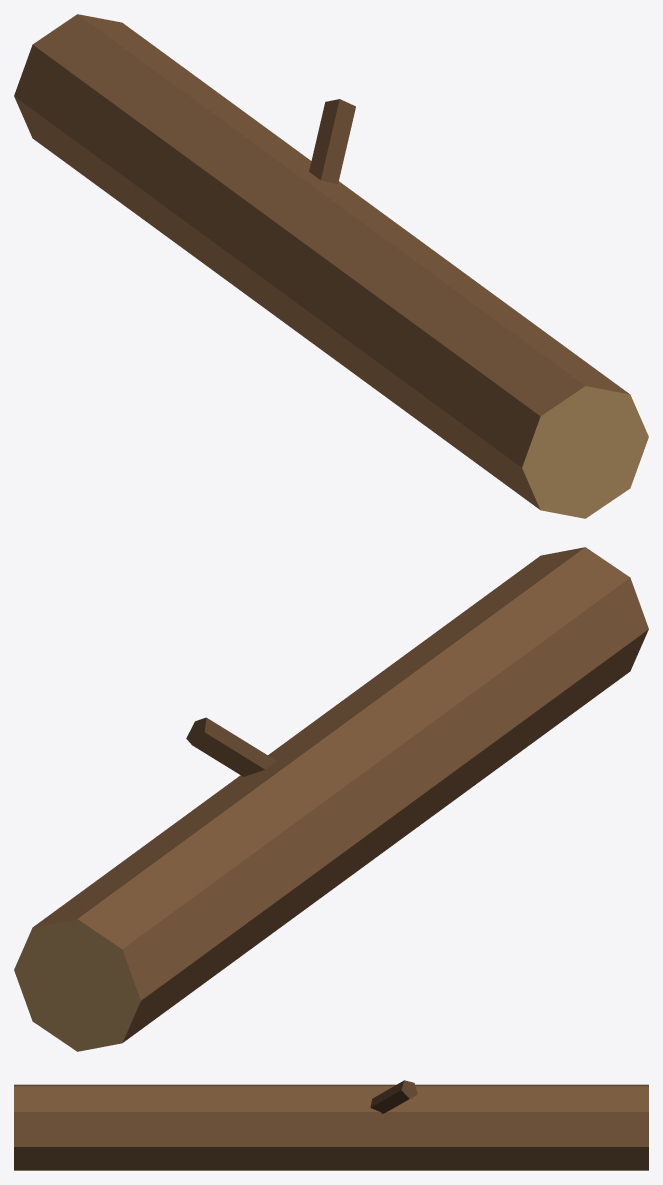
Rendered from SM_Borgo_Log.glb.
The picture shows the model from 3 angles, top to bottom: view 1: azimuth 30°, elevation 25°; view 2: azimuth 150°, elevation 25°; view 3: azimuth 270°, elevation 25°; orthographic projection. The views are drawn at different scales.
Parts seen in each view (by area): view 1: SM_Borgo_Log; view 2: SM_Borgo_Log; view 3: SM_Borgo_Log.
Part boxes in pixels (x1,y1,x2,y2): SM_Borgo_Log: [14, 14, 648, 518]; SM_Borgo_Log: [14, 547, 648, 1051]; SM_Borgo_Log: [14, 1080, 648, 1170].
Bounding box in the file's own units: 0.507 × 0.5793 × 3.05.
Materials: 1 (1 with a texture image).
